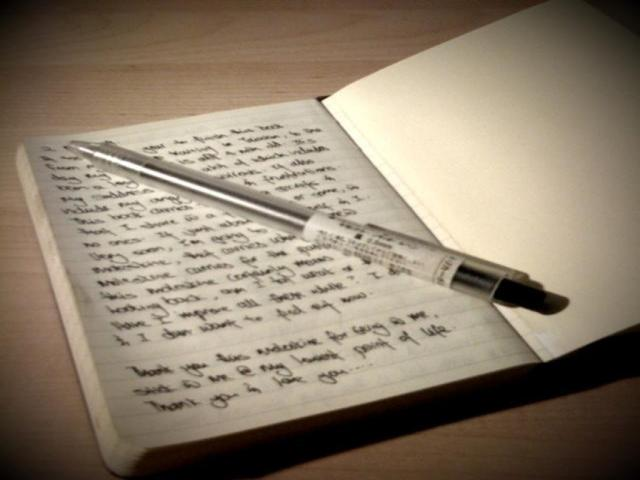PEN: (53, 103, 593, 343)
